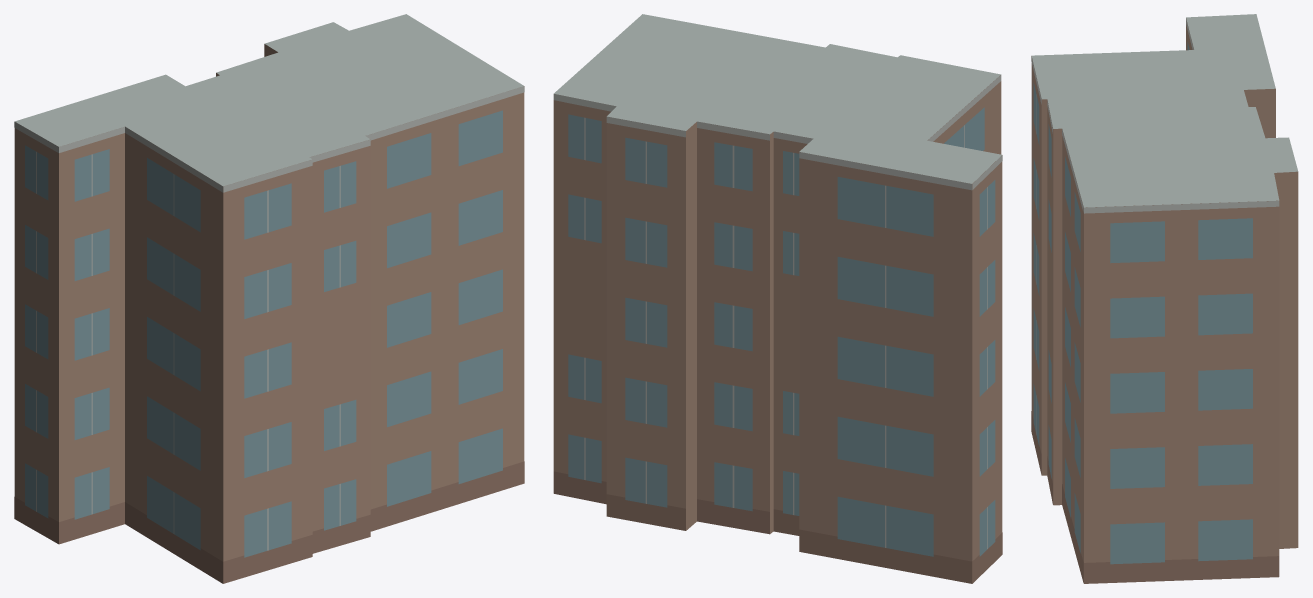
The model's file is survey-upis-32749838.glb.
3 renders of one model, left to right at view 1: azimuth 30°, elevation 25°; view 2: azimuth 150°, elevation 25°; view 3: azimuth 270°, elevation 25°, orthographic. The views are drawn at different scales.
Parts seen in each view (by area): view 1: survey-upis-32749838.tmp; view 2: survey-upis-32749838.tmp; view 3: survey-upis-32749838.tmp.
Part boxes in pixels (left/top/right/bottom): survey-upis-32749838.tmp: left=14, top=14, right=524, bottom=583; survey-upis-32749838.tmp: left=553, top=14, right=1002, bottom=583; survey-upis-32749838.tmp: left=1031, top=14, right=1298, bottom=583.
Size of the model in its own units: 16.83 by 15.25 by 9.81.
